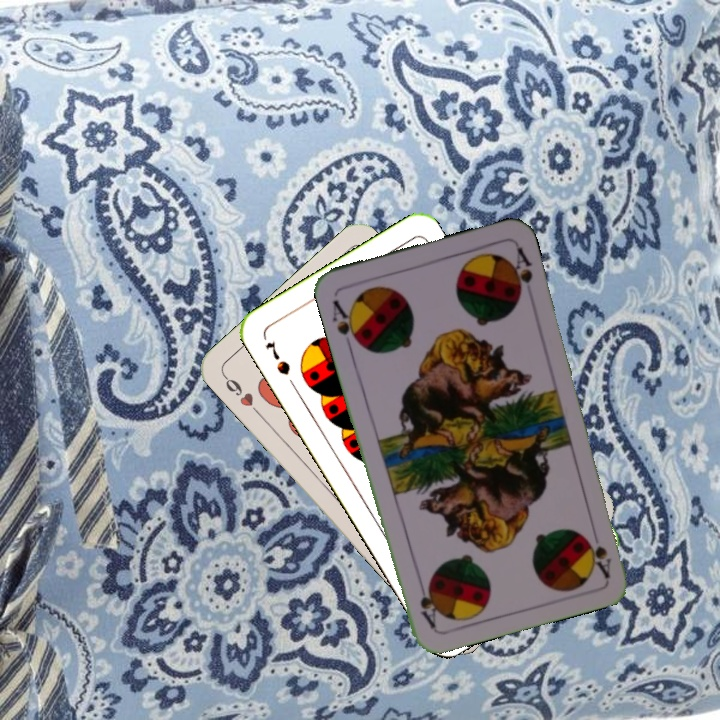H9: (219, 370, 263, 418)
S7: (261, 337, 293, 378)
SA: (328, 296, 364, 351), (583, 533, 614, 580)
